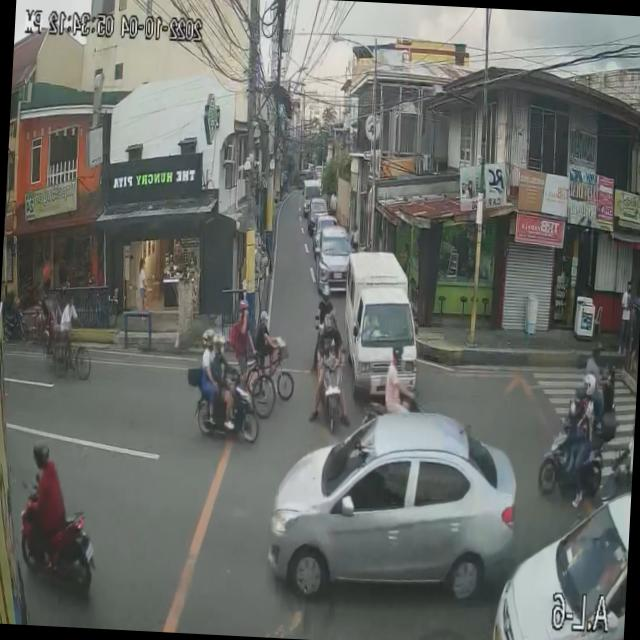full: (202, 328, 215, 350)
half: (212, 332, 225, 358), (584, 374, 596, 396)
